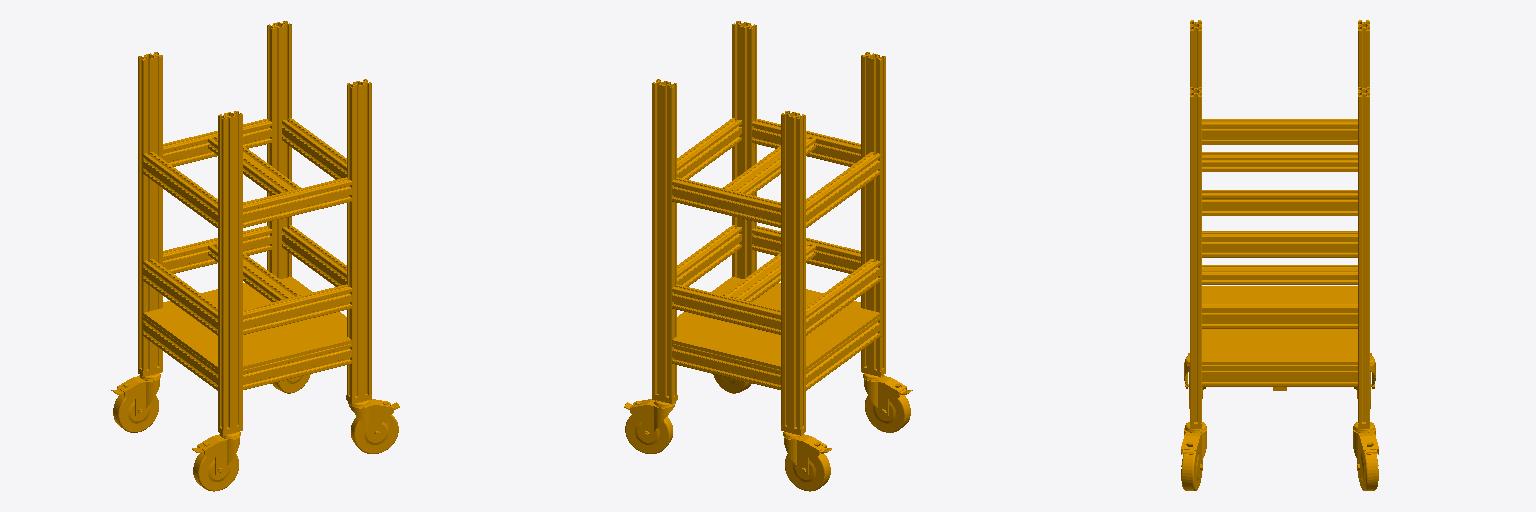
robot.urdf — single_shelf:
<?xml version="1.0" ?>
<robot name="single_shelf">


  <!-- body-->
  <link name="body">
    <visual>
      <origin rpy="0 0 0" xyz="0 0 0"/>
      <geometry>
        <mesh filename="package://amr_description/meshes/single_shelf.stl" scale="0.01 0.01 0.01"/>
      </geometry>
    </visual>
    <collision>
      <origin rpy="0 0 0" xyz="0 0 0"/>
      <geometry>
        <mesh filename="package://amr_description/meshes/single_shelf.stl" scale="0.01 0.01 0.01"/>
      </geometry>
     </collision>
     <inertial>
         <mass value="50.0"/>
              <inertia ixx="1.3542" ixy="0.0"
                       iyy="1.3542" iyz="0.0"
                       izz="1.3542" ixz="0.0"/>
    </inertial>
   </link>



</robot>

--- Render facts (derived) ---
The picture shows the robot from 3 angles, left to right: view 1: azimuth 30°, elevation 25°; view 2: azimuth 150°, elevation 25°; view 3: azimuth 270°, elevation 25°; orthographic projection.
Robot: single_shelf — 1 links, 0 joints (none); root link body; default pose: all joints at 0.
Links seen in each view (by area): view 1: body; view 2: body; view 3: body.
Link boxes in pixels (box(x1,y1,x2,y2)): body: box(111, 21, 399, 491); body: box(624, 21, 912, 491); body: box(1181, 20, 1378, 490).
Bounding box of the posed robot: 0.6106 × 0.4956 × 1.07 m (x, y, z).
1 mesh visuals loaded from 1 distinct referenced files (1 binary STL).